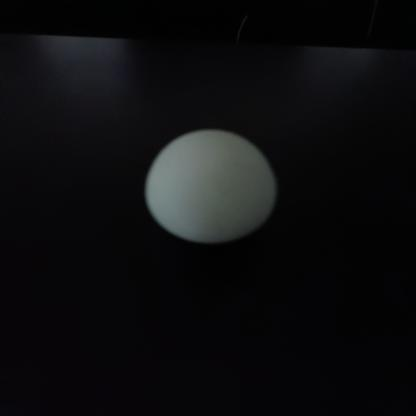egg: (146, 118, 290, 246)
